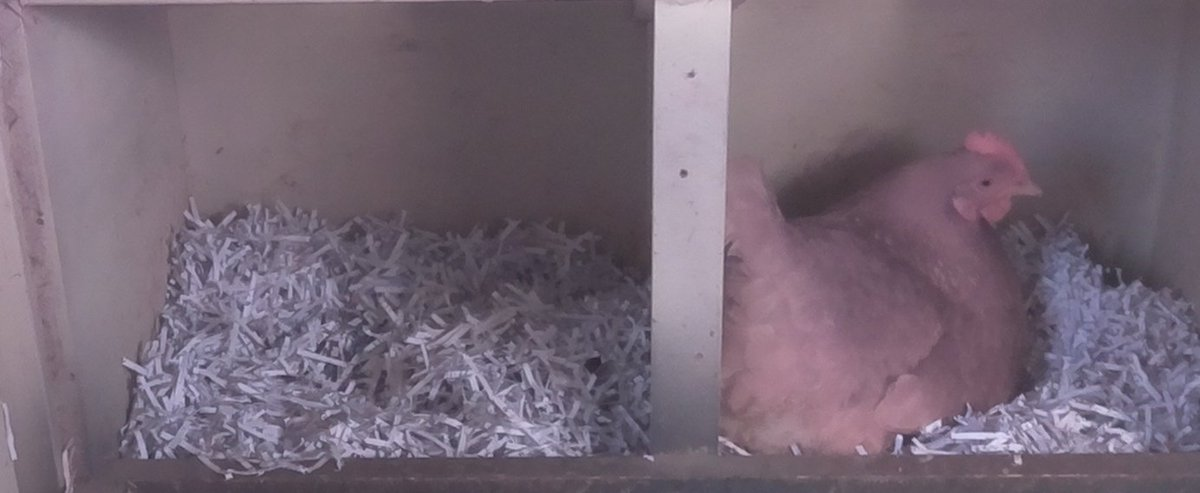hen: (725, 128, 1054, 442)
